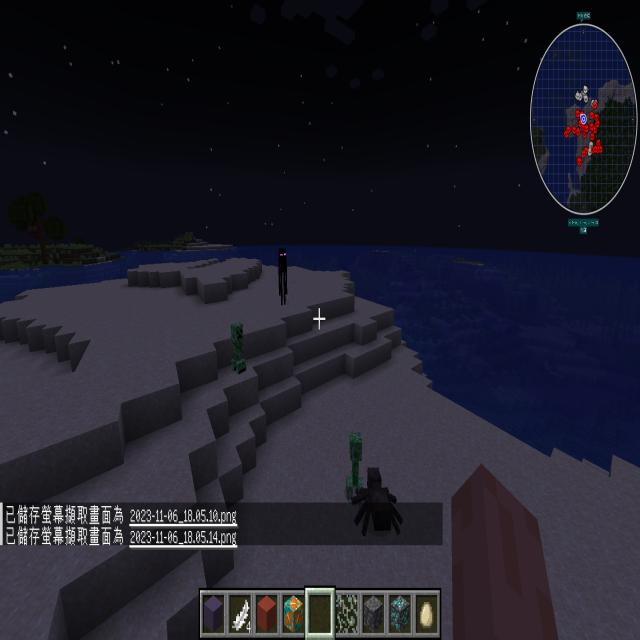Creeper: (344, 428, 368, 505), (228, 320, 250, 380)
Enderman: (276, 245, 293, 308)
Spider: (350, 460, 410, 548)
